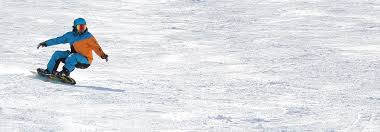snowboarder: (32, 18, 114, 87)
